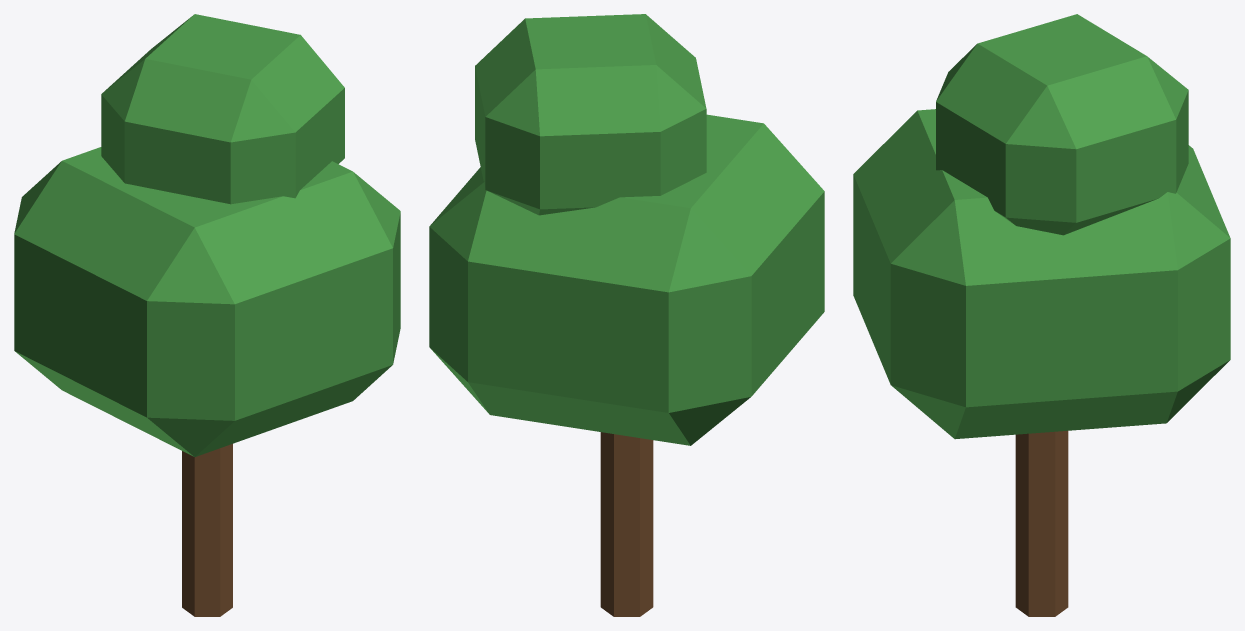
File: tree_round.fbx
3 views of the same model, side by side, from view 1: azimuth 30°, elevation 25°; view 2: azimuth 150°, elevation 25°; view 3: azimuth 270°, elevation 25° (orthographic). The views are drawn at different scales.
Visible parts, largest first — view 1: tree_round; view 2: tree_round; view 3: tree_round.
Part boxes in pixels (x1,y1,x2,y2): tree_round: (14, 14, 400, 616); tree_round: (429, 14, 824, 616); tree_round: (853, 14, 1230, 616).
Bounding box in the file's own units: 1.86 × 3.1 × 1.86.
